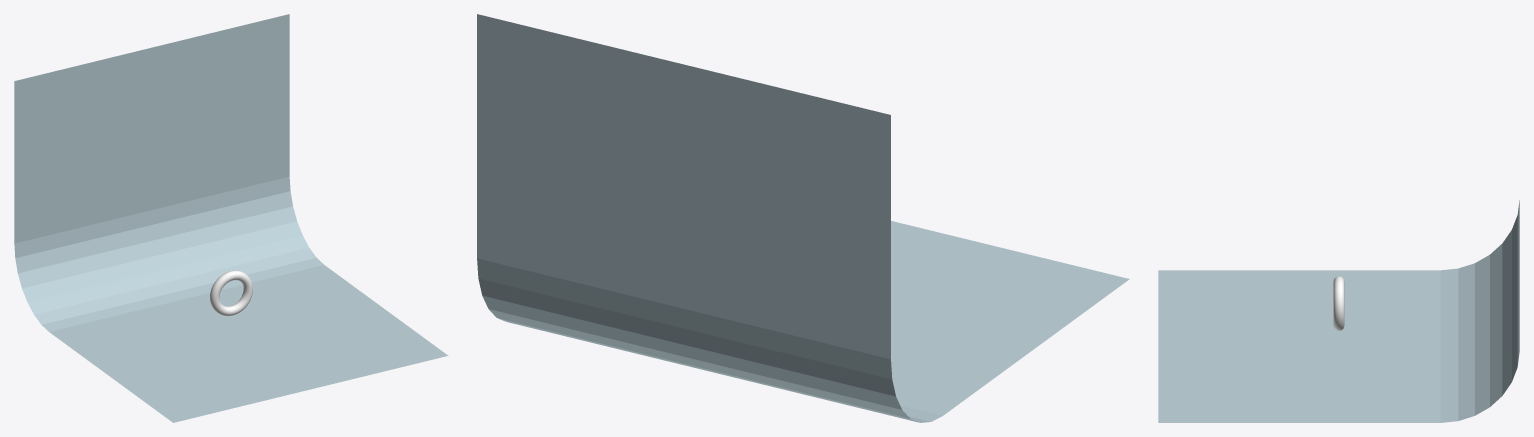
3 views of the same model, side by side, from view 1: azimuth 30°, elevation 25°; view 2: azimuth 150°, elevation 25°; view 3: azimuth 270°, elevation 25° (orthographic). The views are drawn at different scales.
Parts seen in each view (by area): view 1: 平面, 环体; view 2: 平面; view 3: 平面, 环体.
Part boxes in pixels (bbox=[...]): 平面: bbox=[14, 14, 448, 422]; 环体: bbox=[210, 270, 252, 316]; 平面: bbox=[477, 14, 1129, 422]; 平面: bbox=[1158, 200, 1519, 422]; 环体: bbox=[1333, 276, 1344, 330].
Bounding box in the file's own units: 31.33 × 24.52 × 31.33.
